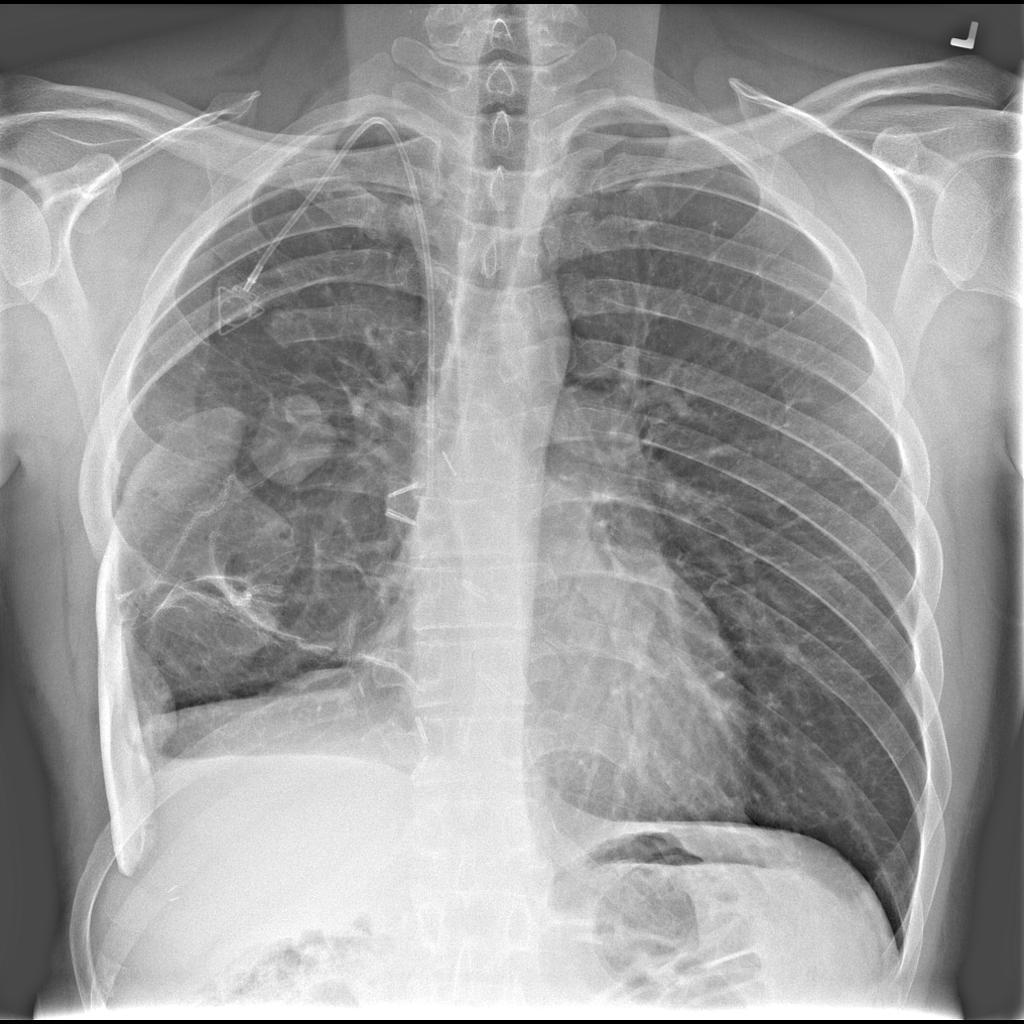Nodule: (246, 392, 344, 496)
